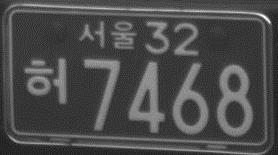2: (172, 21, 200, 57)
3: (143, 19, 170, 56)
4: (124, 59, 165, 134)
6: (173, 60, 210, 136)
7: (80, 56, 121, 133)
8: (215, 63, 254, 137)
서울_O: (79, 18, 138, 51)
허: (23, 56, 69, 107)
